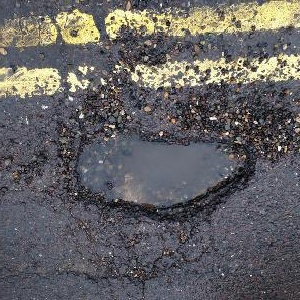pothole: (58, 118, 257, 225)
